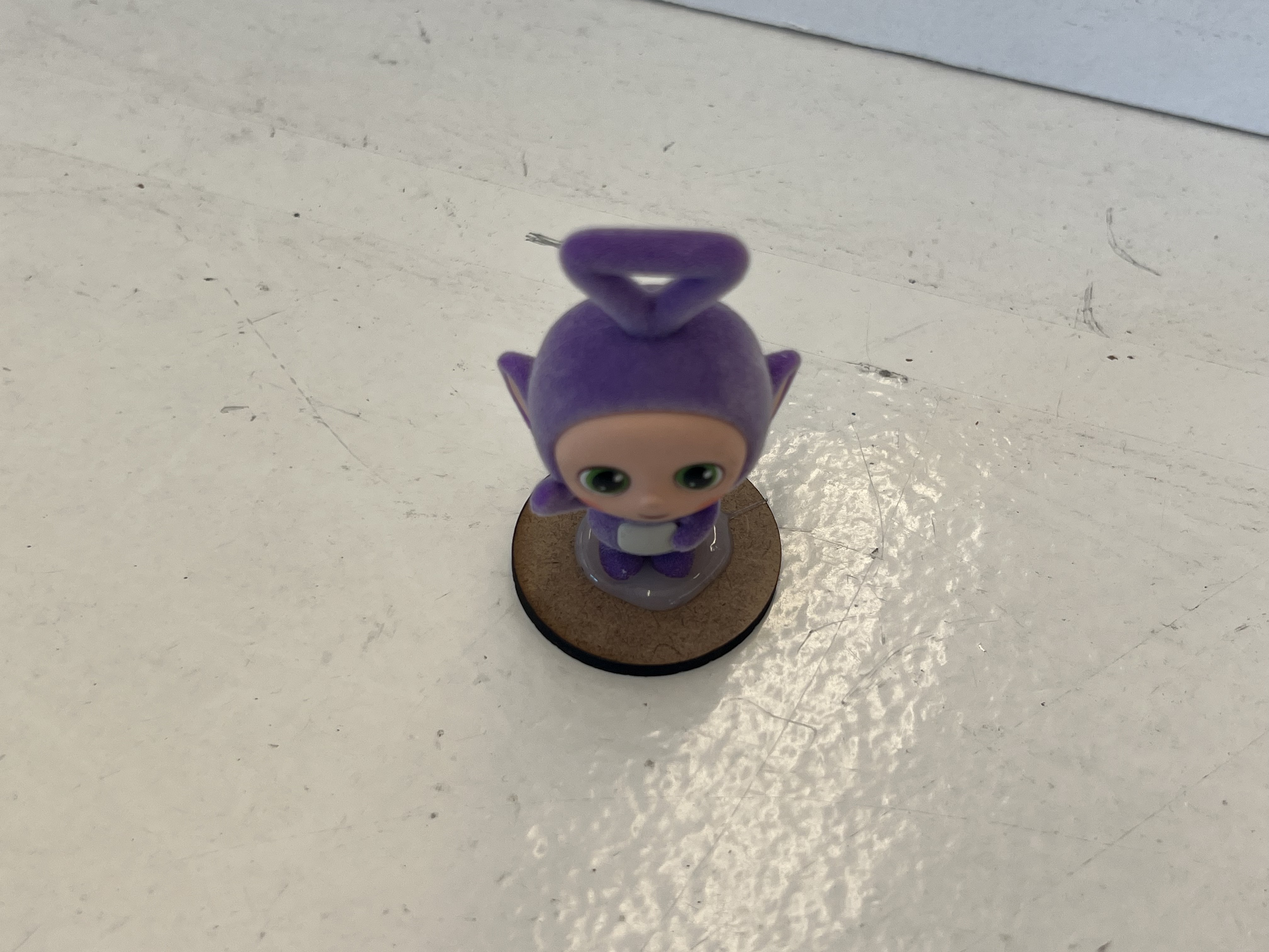teletubby: (498, 228, 800, 580)
